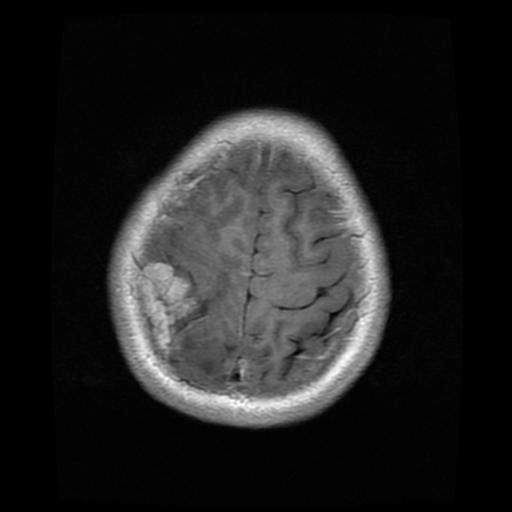Tumour-Meningioma: (130, 259, 226, 370)
